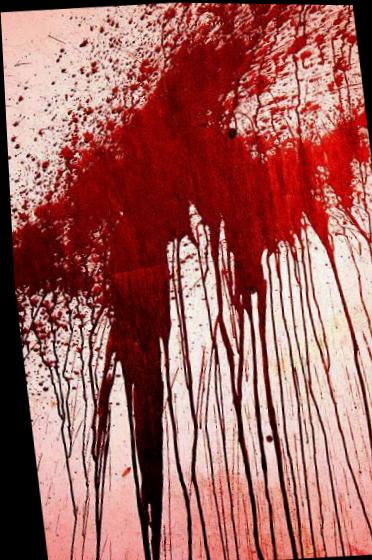Fire: (1, 2, 372, 560)
